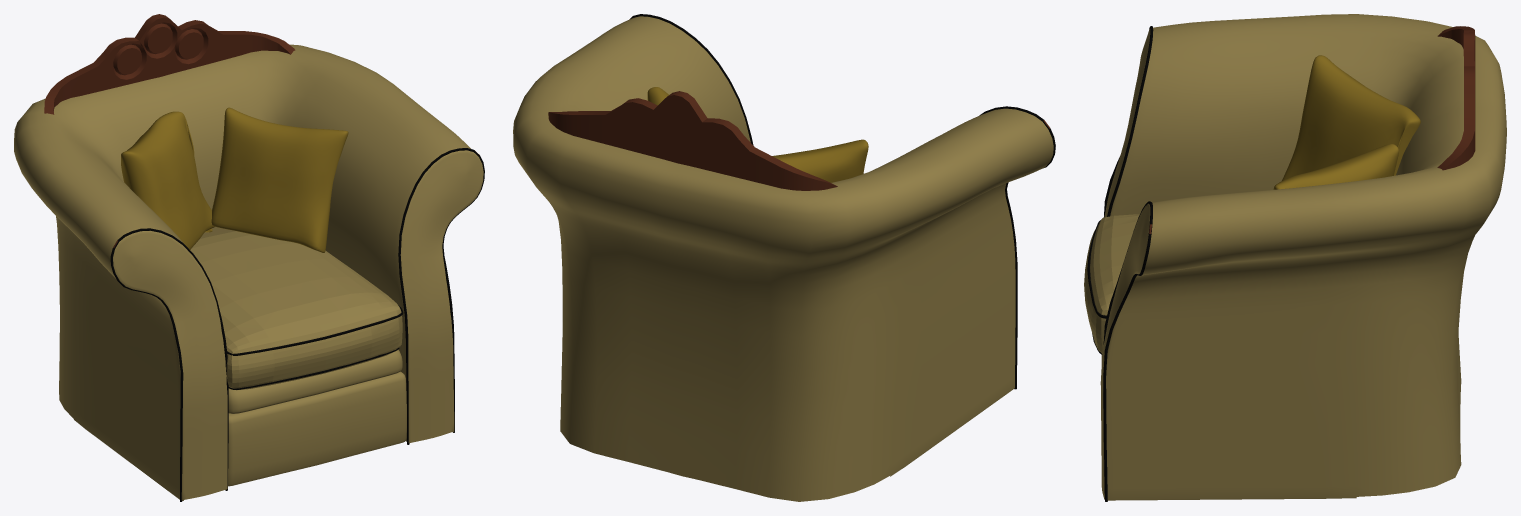
File: o_env_chairA.FBX
The picture shows the model from 3 angles, left to right: view 1: azimuth 30°, elevation 25°; view 2: azimuth 150°, elevation 25°; view 3: azimuth 270°, elevation 25°; orthographic projection. The views are drawn at different scales.
Visible parts, largest first — view 1: o_env_chairA; view 2: o_env_chairA; view 3: o_env_chairA.
Part boxes in pixels (bbox=[...]): o_env_chairA: bbox=[14, 14, 484, 501]; o_env_chairA: bbox=[513, 14, 1055, 501]; o_env_chairA: bbox=[1084, 14, 1506, 501].
Size of the model in its own units: 143 by 123 by 121.
